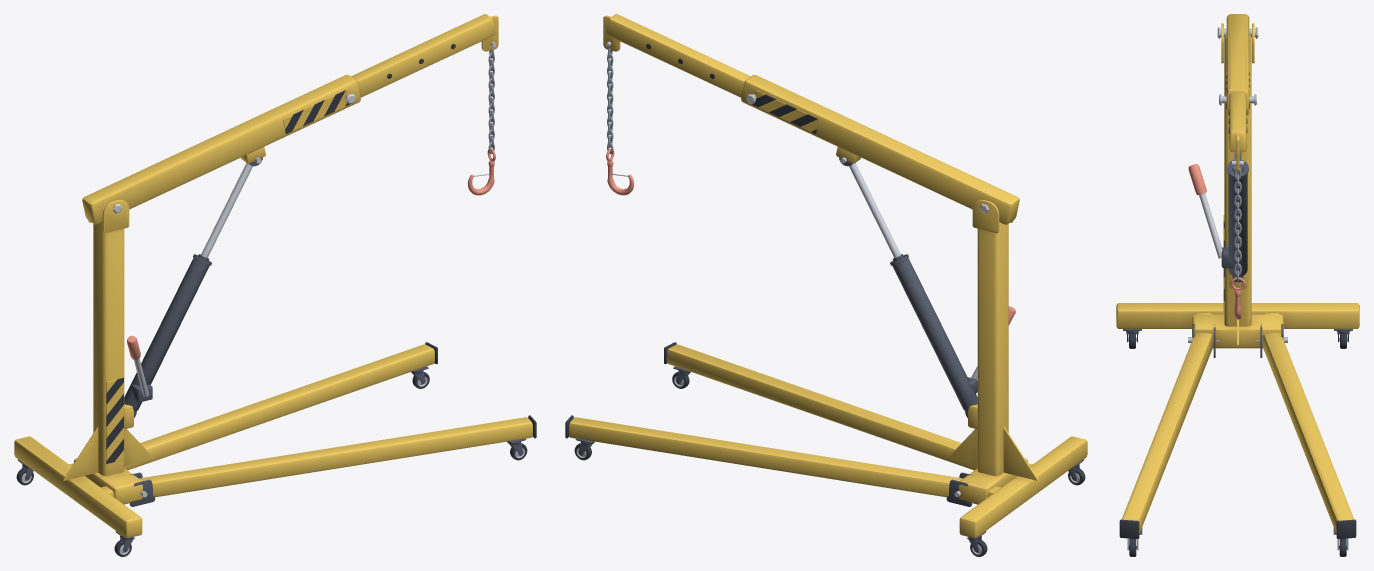
File: engine-hoist.glb
3 renders of one model, left to right at view 1: azimuth 30°, elevation 25°; view 2: azimuth 150°, elevation 25°; view 3: azimuth 270°, elevation 25°, orthographic. The views are drawn at different scales.
Parts seen in each view (by area): view 1: engine-hoist_body, engine-hoist_boom; view 2: engine-hoist_body, engine-hoist_boom; view 3: engine-hoist_body, engine-hoist_boom.
Part boxes in pixels (box(x1,y1,x2,y2)): engine-hoist_body: box(14, 157, 536, 556); engine-hoist_boom: box(82, 14, 498, 224); engine-hoist_body: box(565, 157, 1087, 556); engine-hoist_boom: box(603, 14, 1019, 224); engine-hoist_body: box(1116, 23, 1359, 556); engine-hoist_boom: box(1217, 14, 1258, 319).
Size of the model in its own units: 2 by 1.77 by 0.9.
2 materials, 2 textured.
